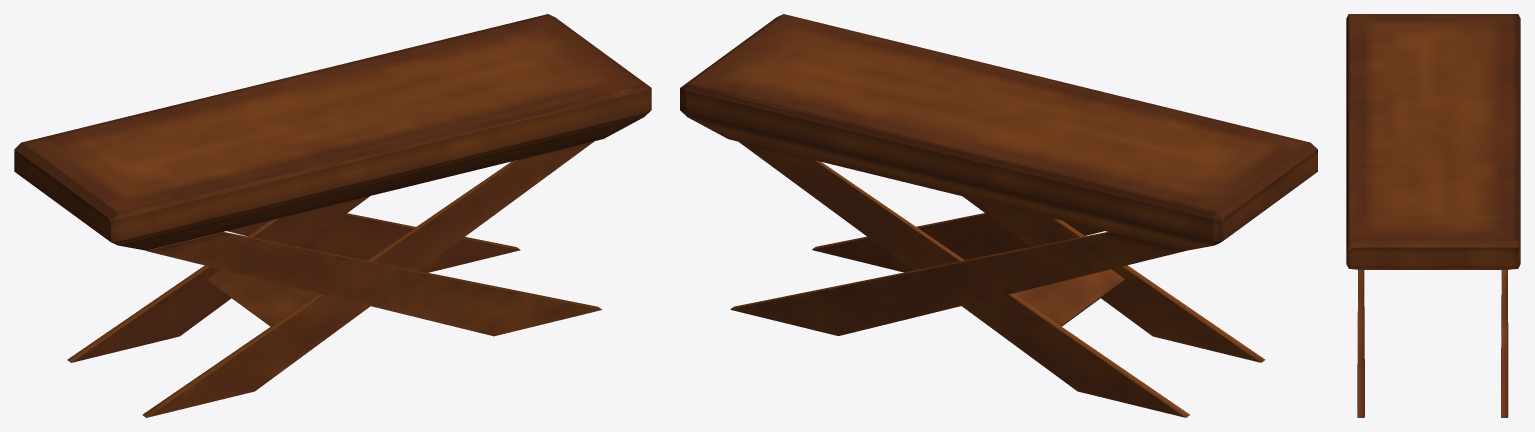
The model's file is MesaCentroZefir.fbx.
3 renders of one model, left to right at view 1: azimuth 30°, elevation 25°; view 2: azimuth 150°, elevation 25°; view 3: azimuth 270°, elevation 25°, orthographic. The views are drawn at different scales.
Visible parts, largest first — view 1: Cube.064; view 2: Cube.064; view 3: Cube.064.
Boxes of the visible parts, box(x1,y1,x2,y2) form: Cube.064: box(14, 14, 651, 417); Cube.064: box(680, 14, 1317, 417); Cube.064: box(1346, 14, 1520, 417).
Size of the model in its own units: 279 by 108 by 88.24.
1 material, 1 textured.
